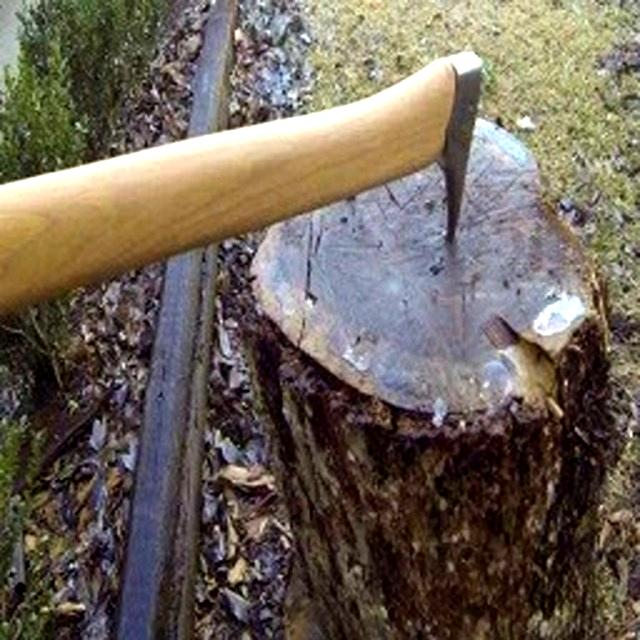ax: (0, 47, 490, 316)
